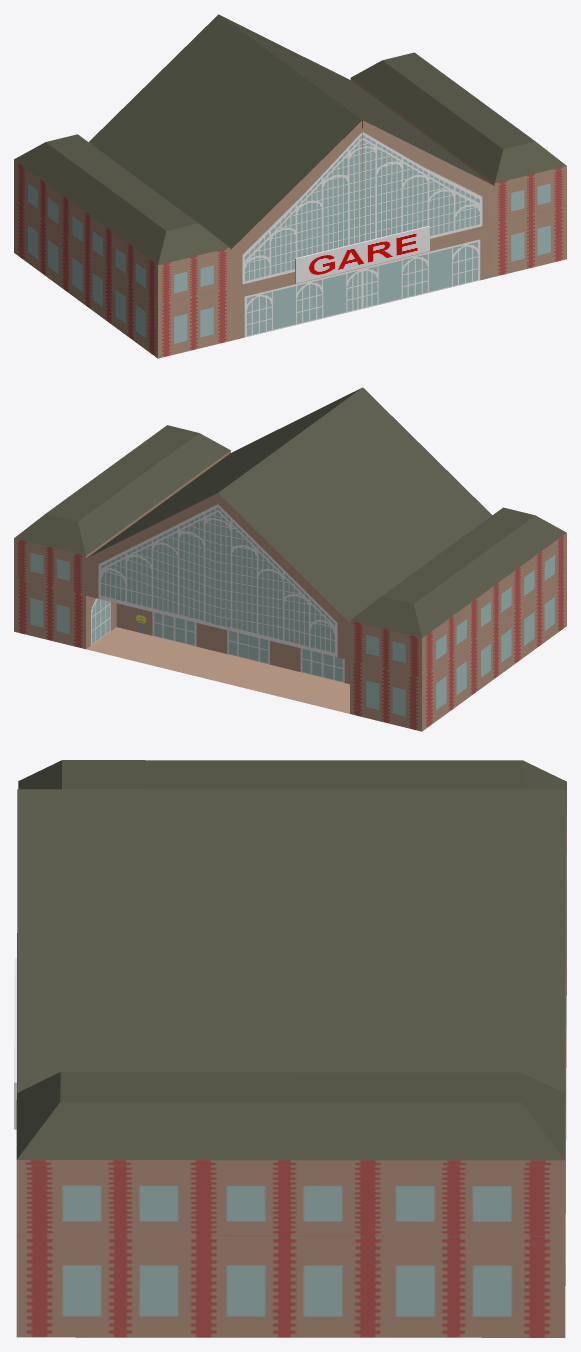
File: gare.glb
The picture shows the model from 3 angles, top to bottom: view 1: azimuth 30°, elevation 25°; view 2: azimuth 150°, elevation 25°; view 3: azimuth 270°, elevation 25°; orthographic projection. The views are drawn at different scales.
Parts seen in each view (by area): view 1: Cube; view 2: Cube; view 3: Cube.
Part boxes in pixels (x1,y1,x2,y2): Cube: (14,14,566,358); Cube: (14,387,566,731); Cube: (14,760,566,1337).
Bounding box in the file's own units: 24.51 × 10.81 × 15.1.
1 material, 1 textured.
